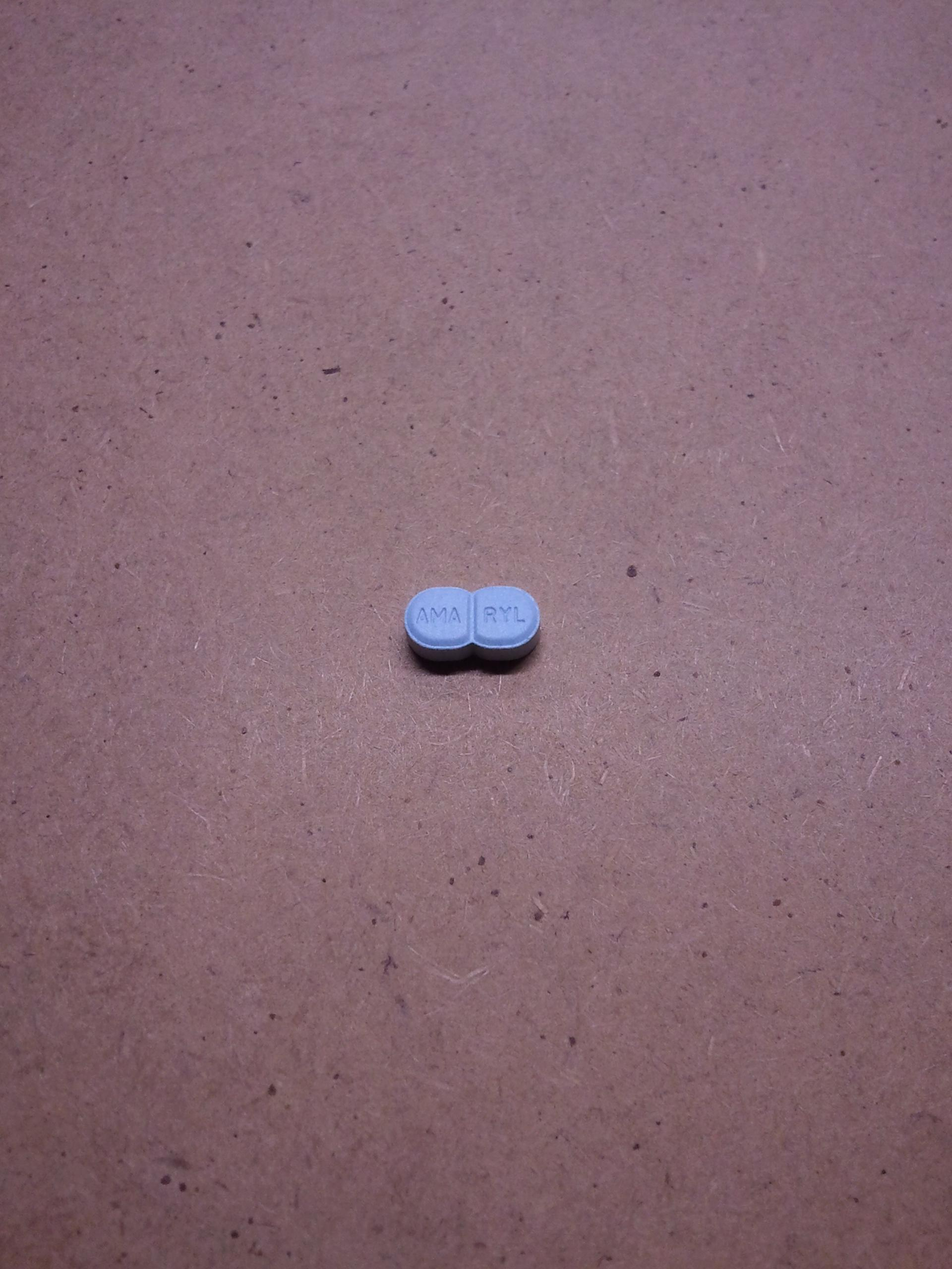Pill: (372, 575, 552, 688)
